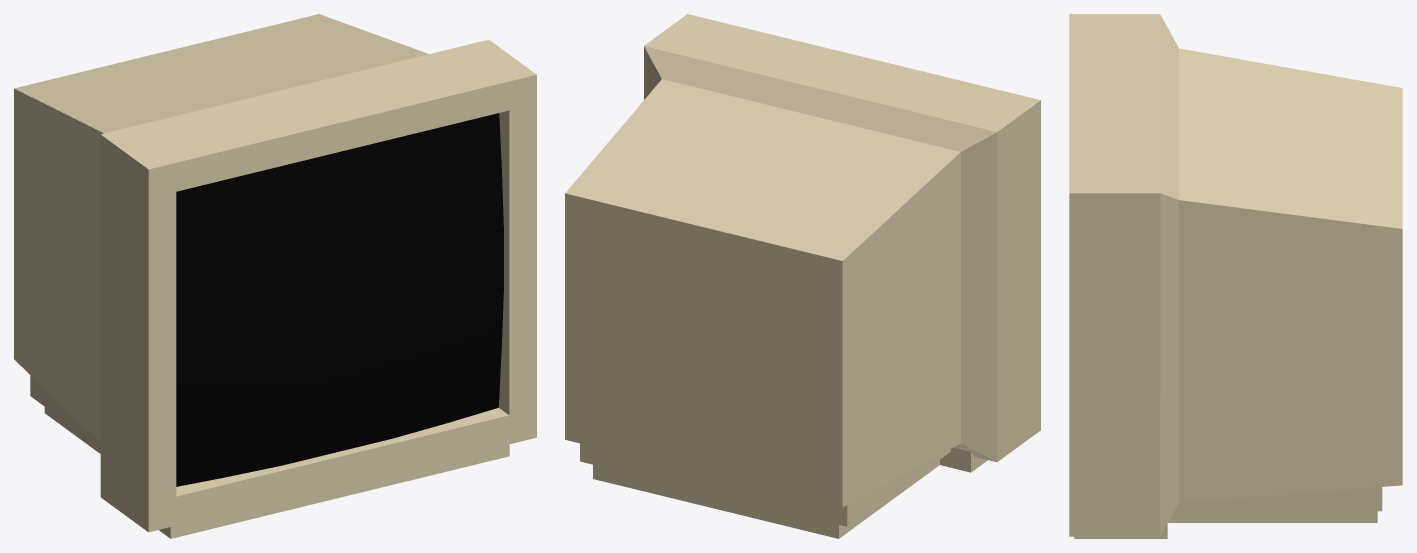
Rendered from myModel.glb.
The picture shows the model from 3 angles, left to right: view 1: azimuth 30°, elevation 25°; view 2: azimuth 150°, elevation 25°; view 3: azimuth 270°, elevation 25°; orthographic projection. The views are drawn at different scales.
Visible parts, largest first — view 1: Monitor; view 2: Monitor; view 3: Monitor.
Boxes of the visible parts, x1,y1,x2,y2 form: Monitor: (14,14,536,538); Monitor: (565,14,1040,538); Monitor: (1069,14,1402,538).
Bounding box in the file's own units: 0.56 × 0.52 × 0.44.
